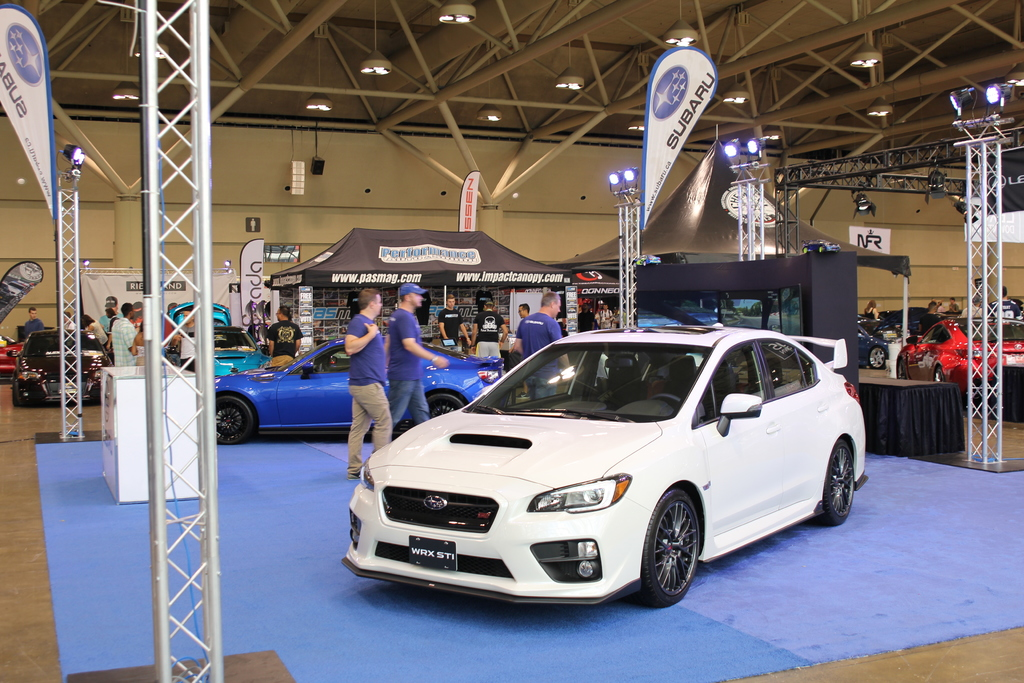Car: (341, 329, 897, 611), (213, 337, 504, 445), (855, 304, 1023, 395), (167, 300, 271, 380), (7, 328, 110, 406), (0, 329, 26, 380)
